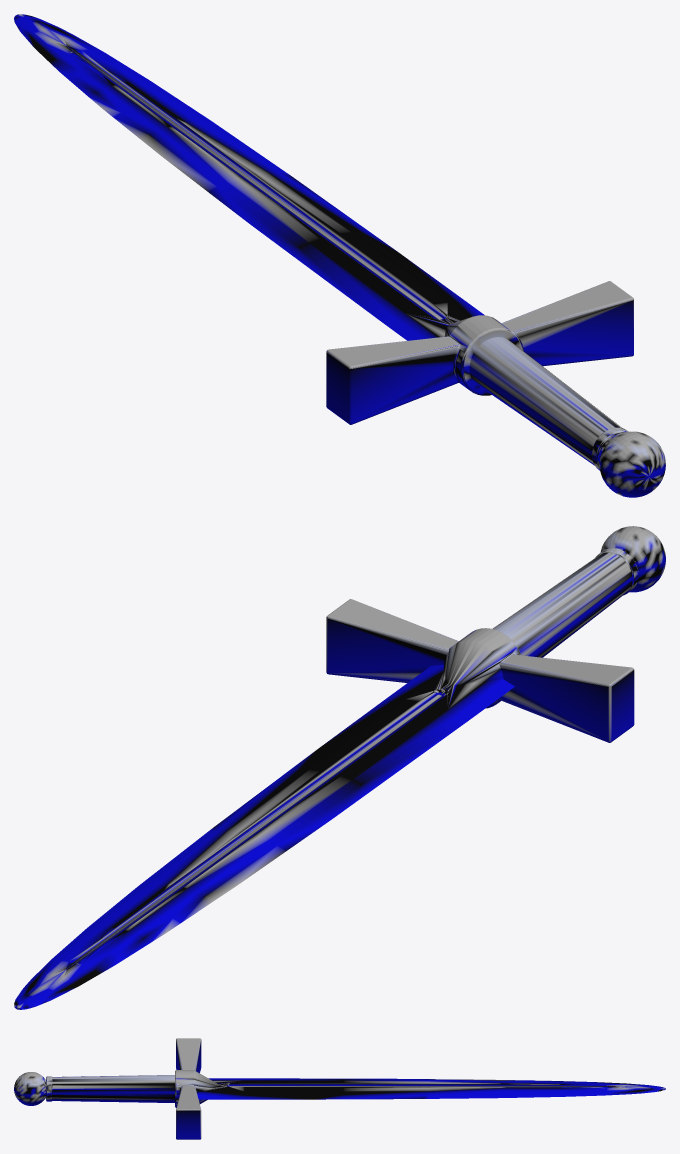
The model's file is Kirill.fbx.
The picture shows the model from 3 angles, top to bottom: view 1: azimuth 30°, elevation 25°; view 2: azimuth 150°, elevation 25°; view 3: azimuth 270°, elevation 25°; orthographic projection. The views are drawn at different scales.
Parts seen in each view (by area): view 1: model; view 2: model; view 3: model.
Part boxes in pixels (x1=…): model: x1=14, y1=14, x2=665, y2=497; model: x1=14, y1=526, x2=665, y2=1009; model: x1=14, y1=1038, x2=665, y2=1139.
Bounding box in the file's own units: 270 × 59.95 × 1036.
